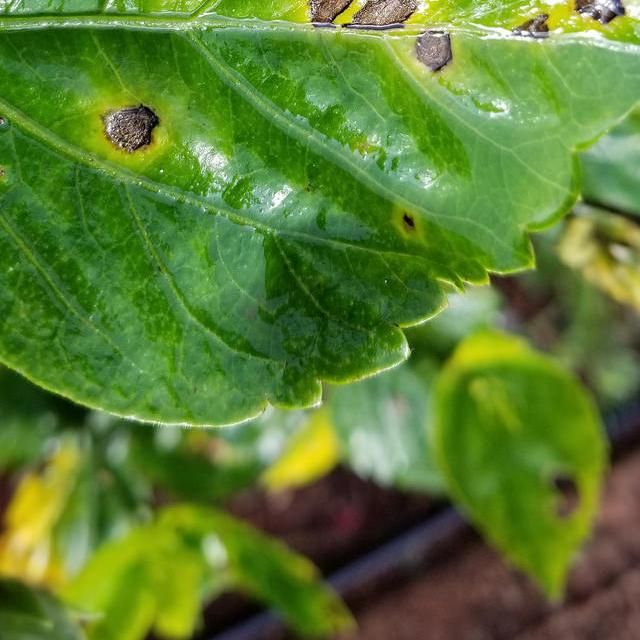Tomato leaf bacterial spot: (0, 0, 640, 439)
